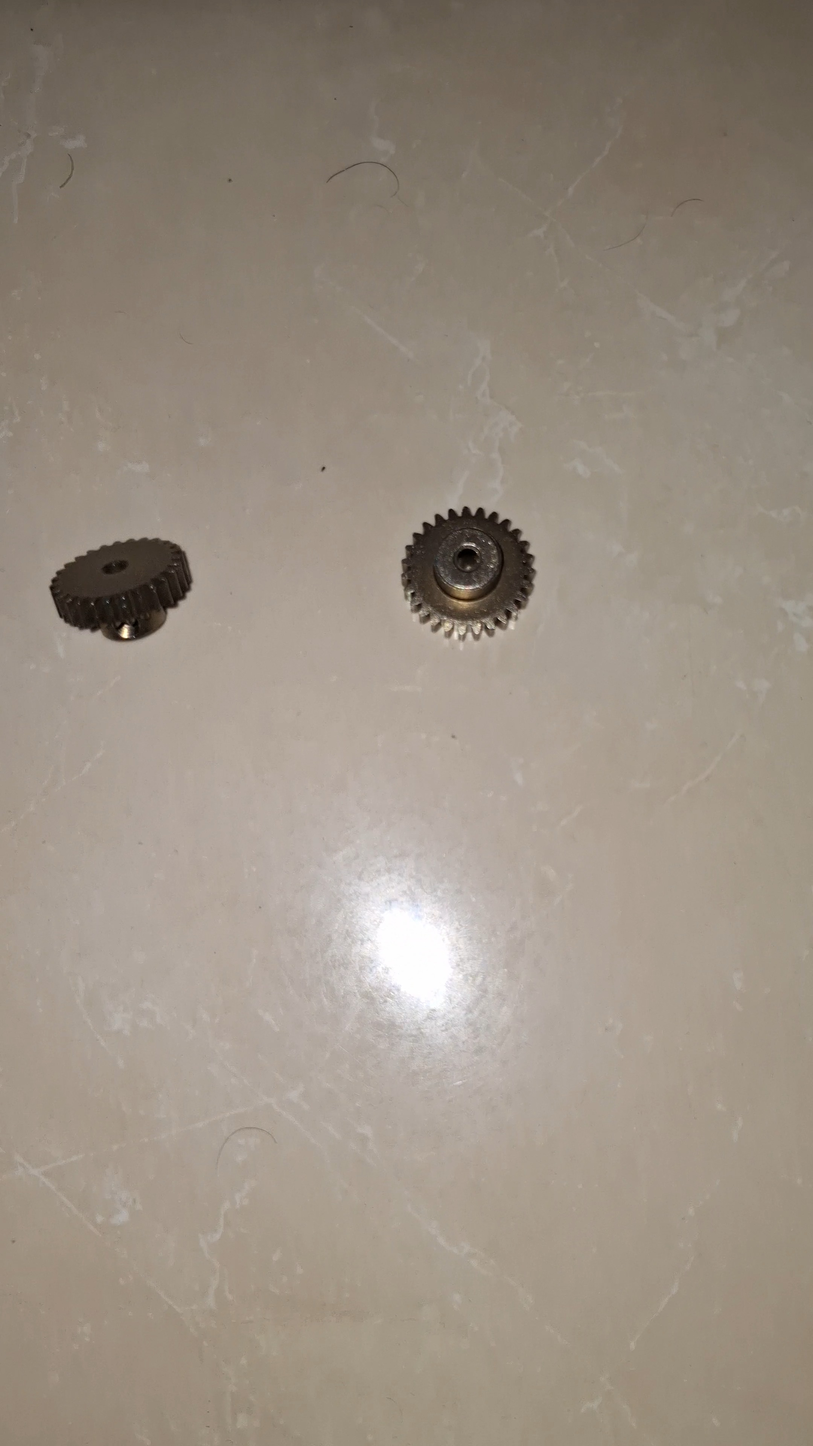spur gear: (402, 507, 533, 638), (50, 539, 191, 640)
